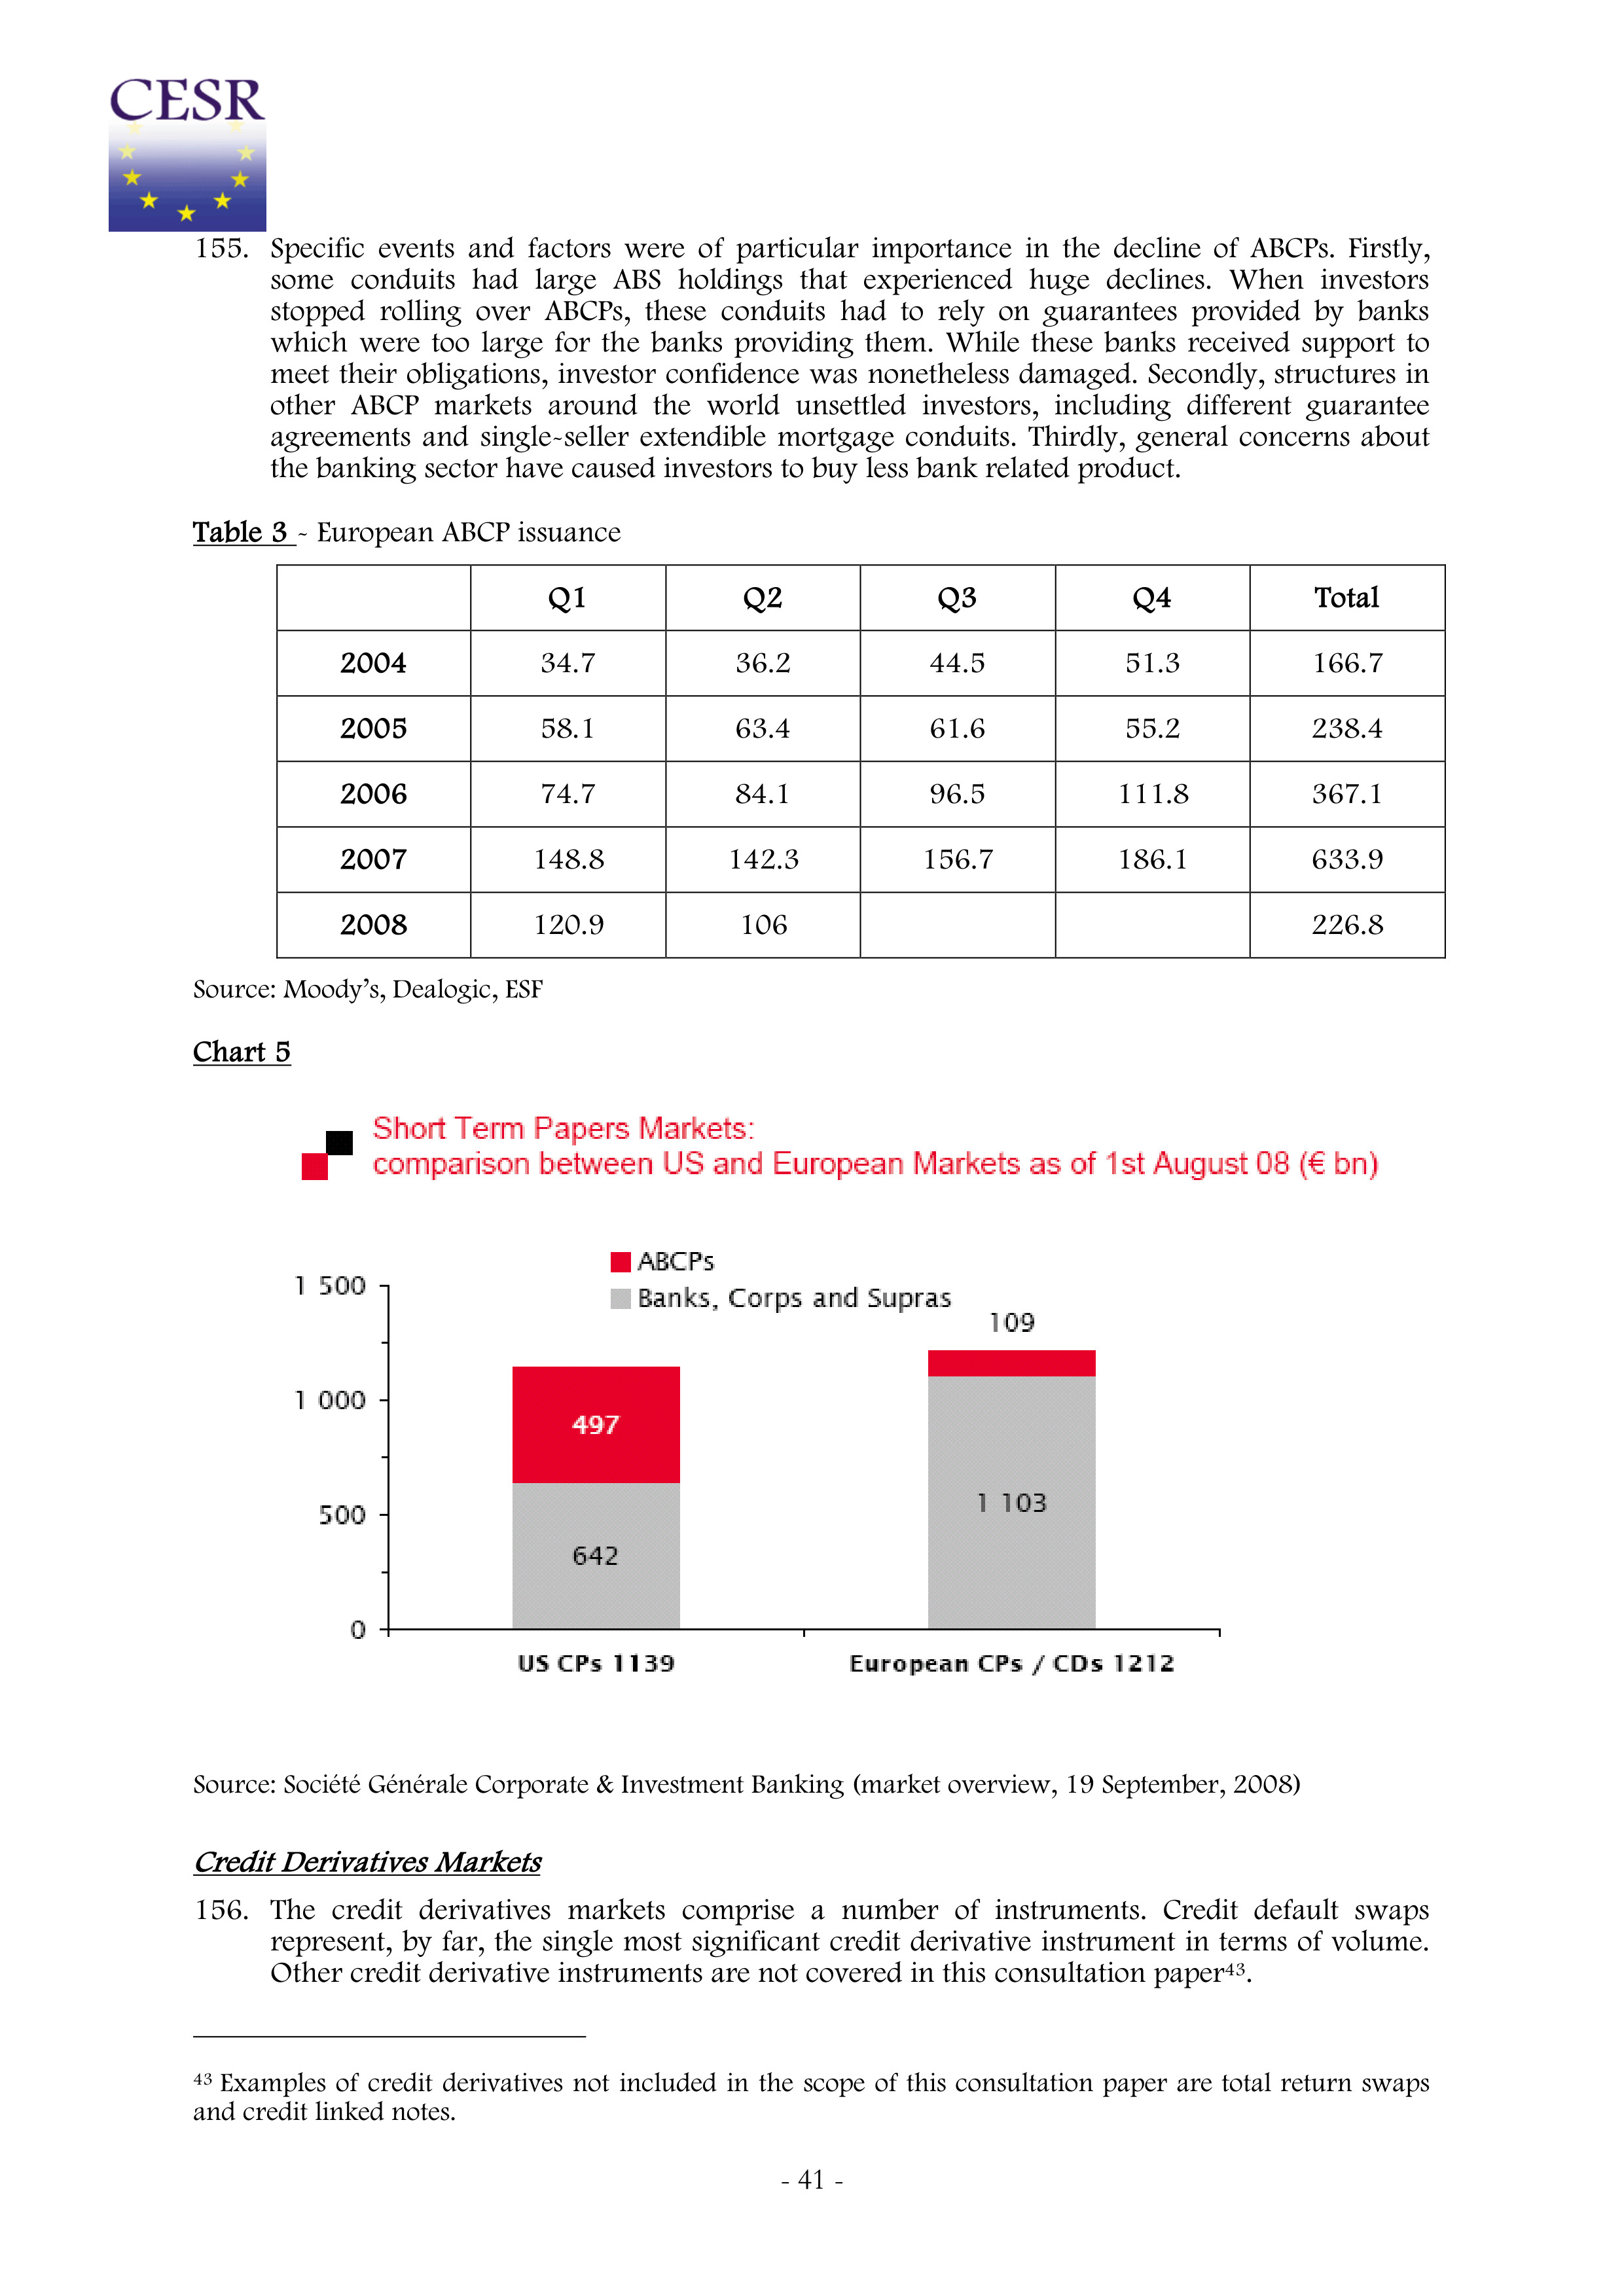table: (339, 583, 1383, 942)
